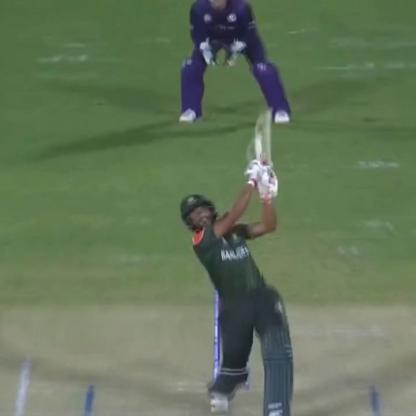bat: (242, 103, 286, 204)
pitch: (4, 350, 416, 416)
